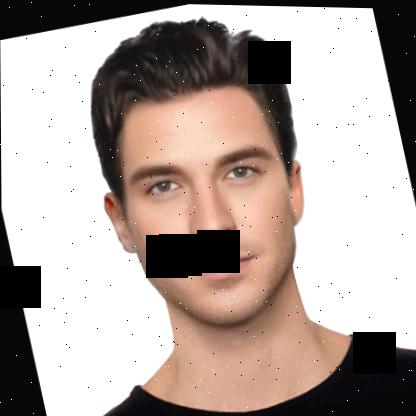Male: (80, 67, 329, 342)
